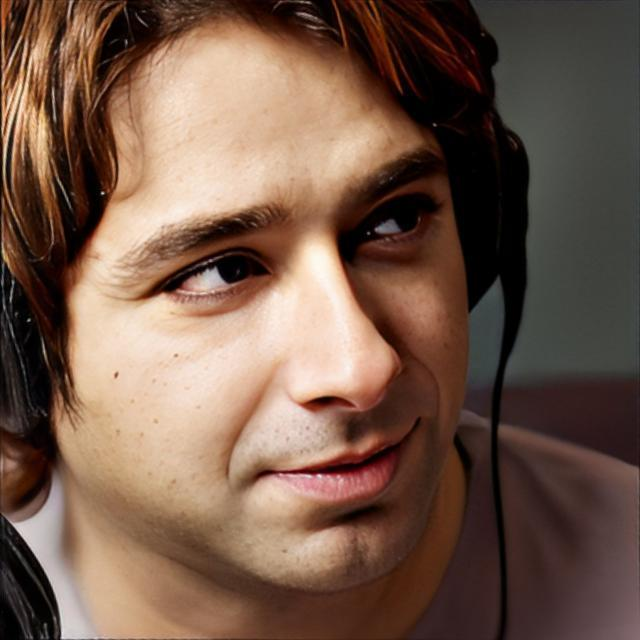neutral: (49, 0, 472, 594)
